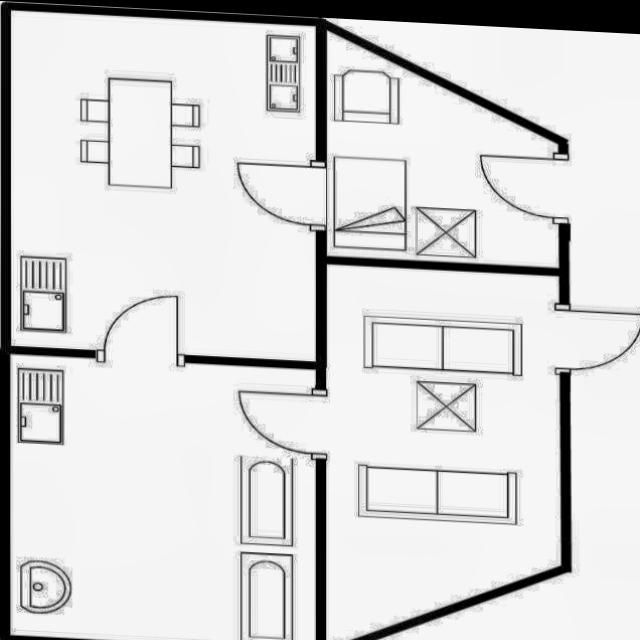room: (10, 9, 316, 361), (326, 263, 561, 640), (10, 353, 316, 640), (326, 29, 559, 267)
